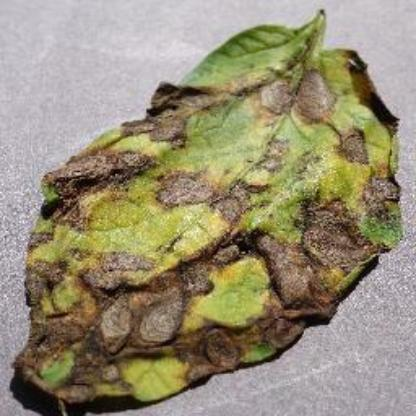Early-Blight: (13, 6, 407, 406)
